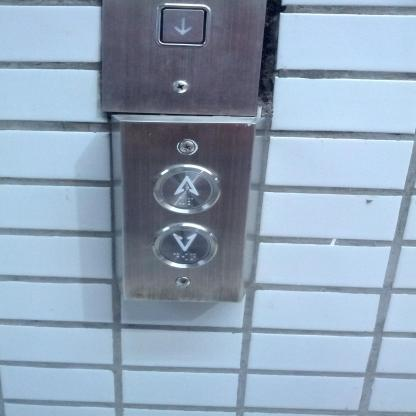down: (153, 222, 217, 269), (156, 2, 210, 48)
up: (150, 163, 221, 214)
